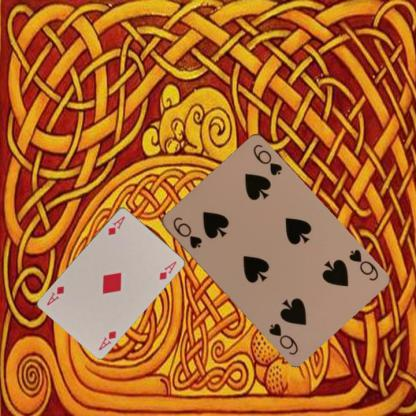6s: (170, 214, 204, 250), (346, 246, 379, 283)
Ad: (96, 328, 117, 351), (105, 214, 126, 236)
